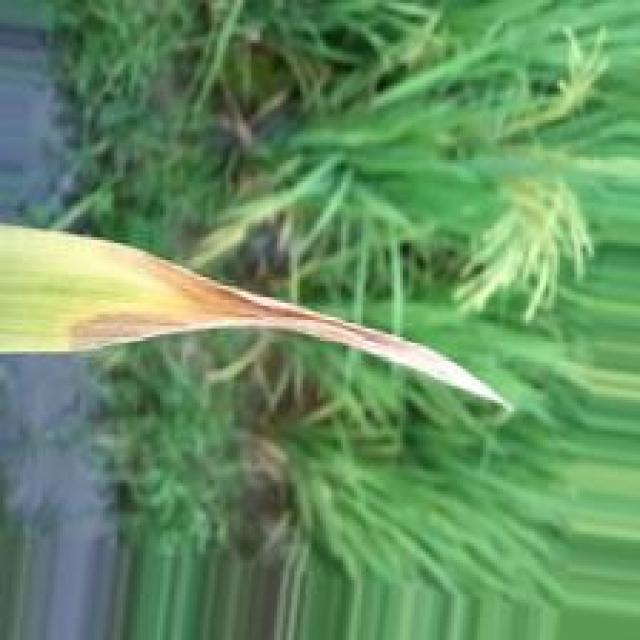Leaf_Scald: (63, 253, 450, 371)
